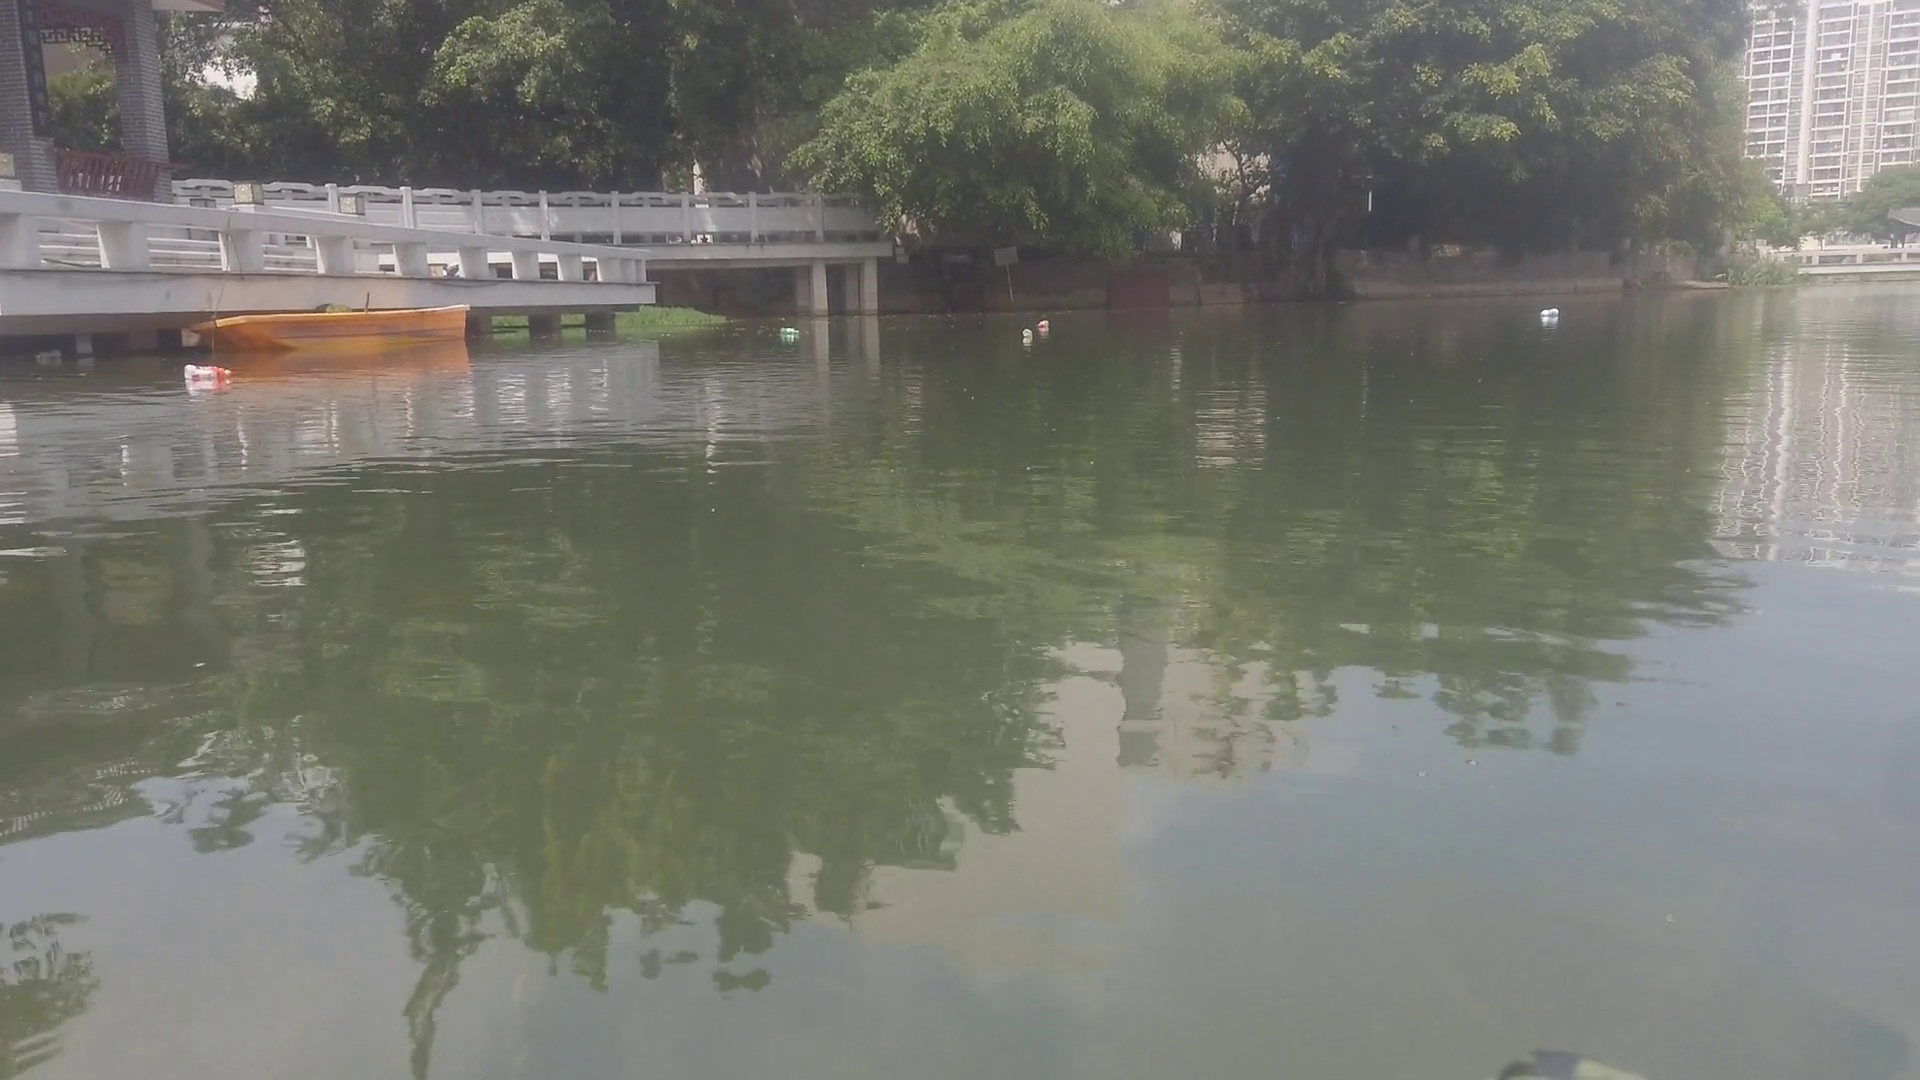bottle: (181, 360, 236, 382), (1538, 303, 1564, 320), (775, 323, 800, 334), (1036, 315, 1054, 328), (1018, 326, 1035, 338)
